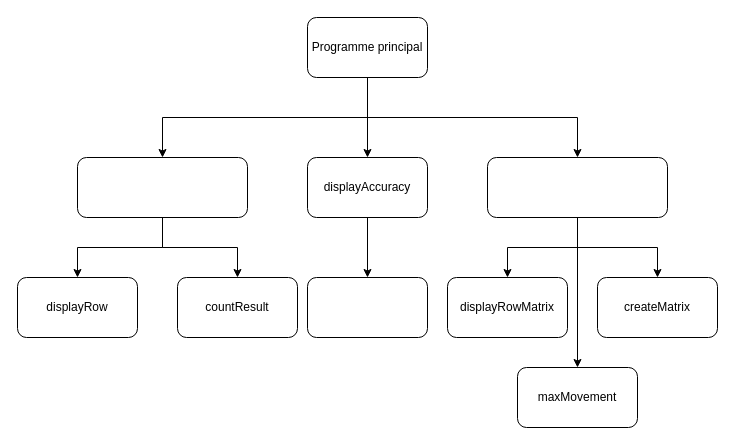
Image size: 735x445. Some labels were removed from this diagram. The centre of each missing label's shape, as x and y in pixels:
countTotCorrect: [367,307]
dispalyResultByClass: [162,187]
displayConfusionMatrix: [577,187]
